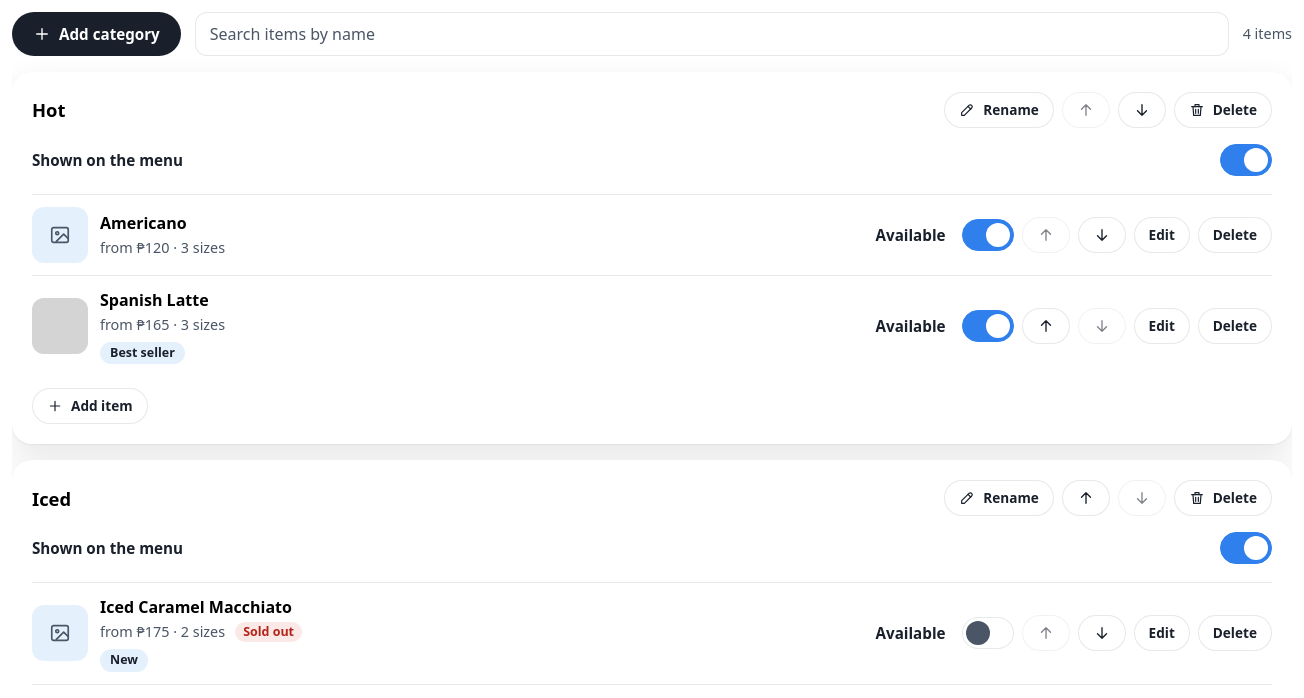
it: ItemsTab adds a category › says in words when the save fails
This screenshot has width=1304, height=698.
Click the button "Add category": [96, 34] box [12,12,181,56]
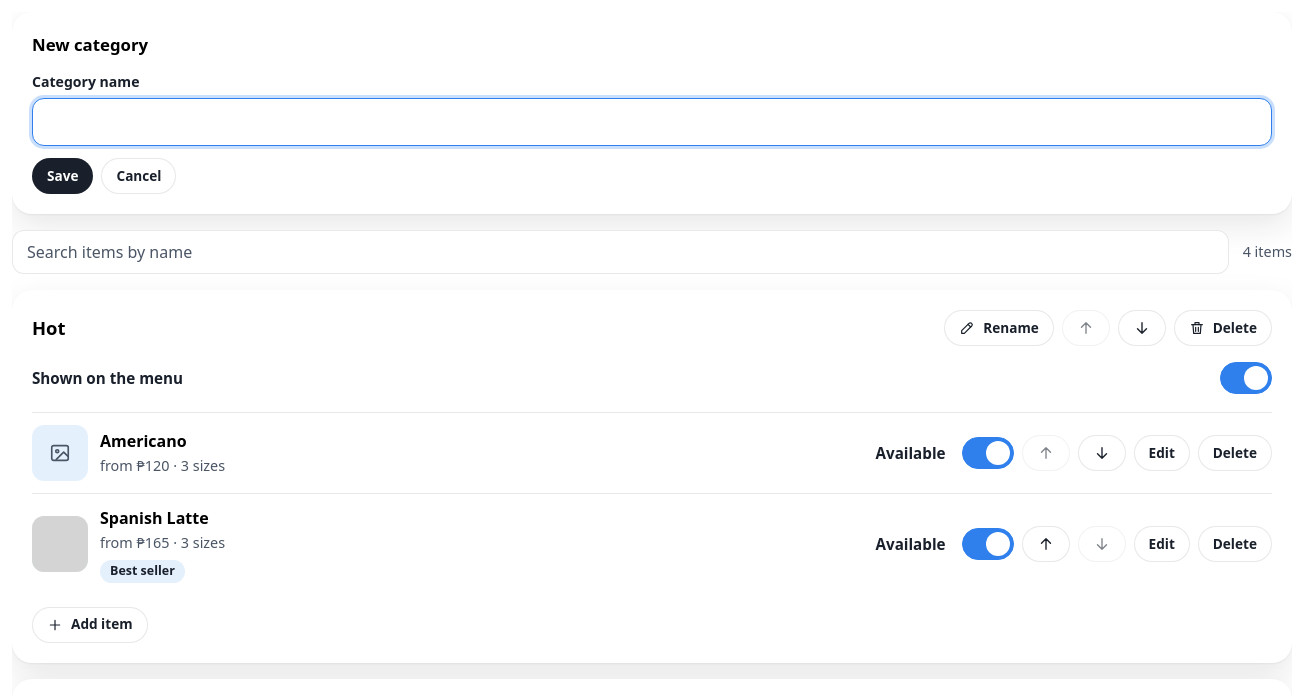
In the field labelled "Category name": [652, 122] box [32,98,1272,146], type "Pastries"
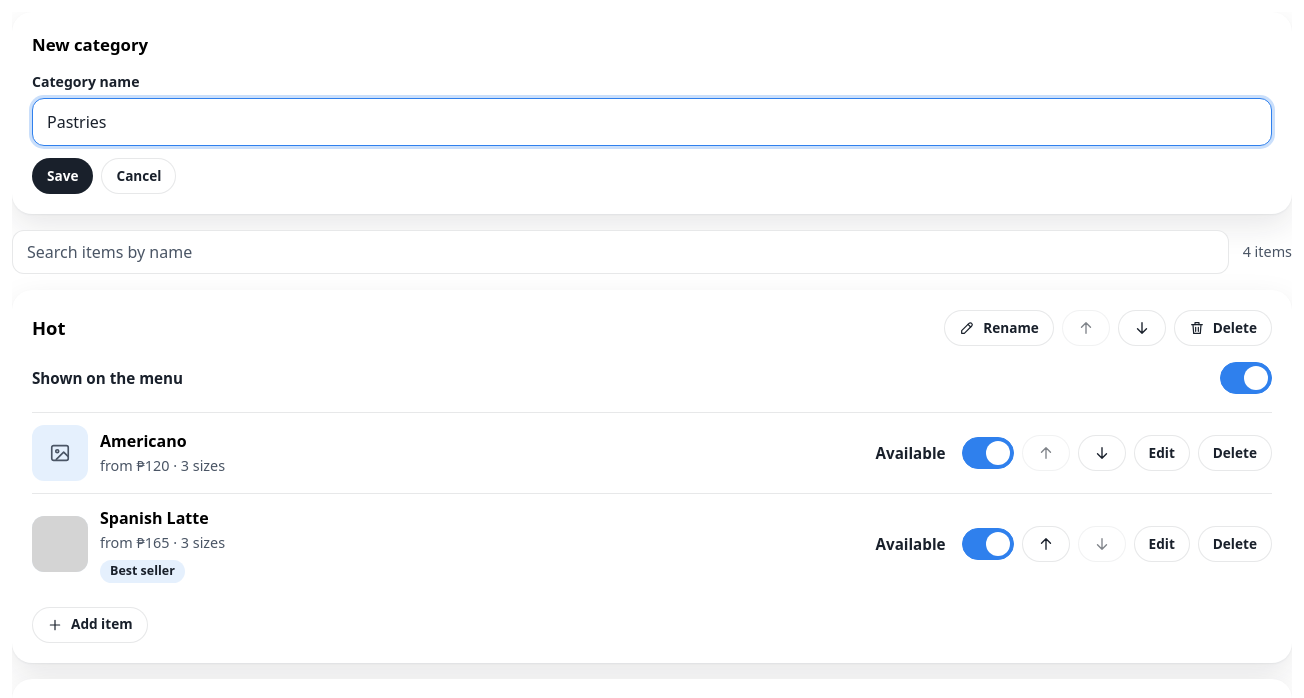
Click the button "Save": [63, 176] box [32,158,94,194]
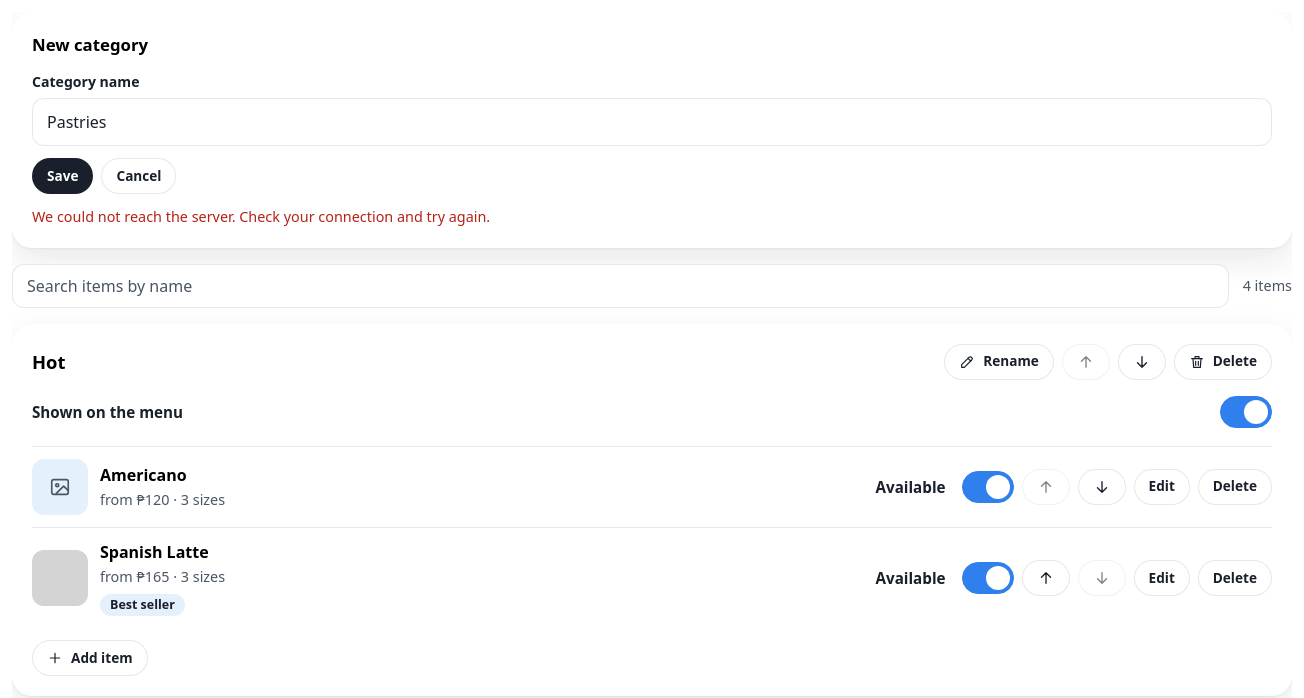
Expected: the message reads "We could not reach the server. Check your connection and try again.", [32,207,490,226]
